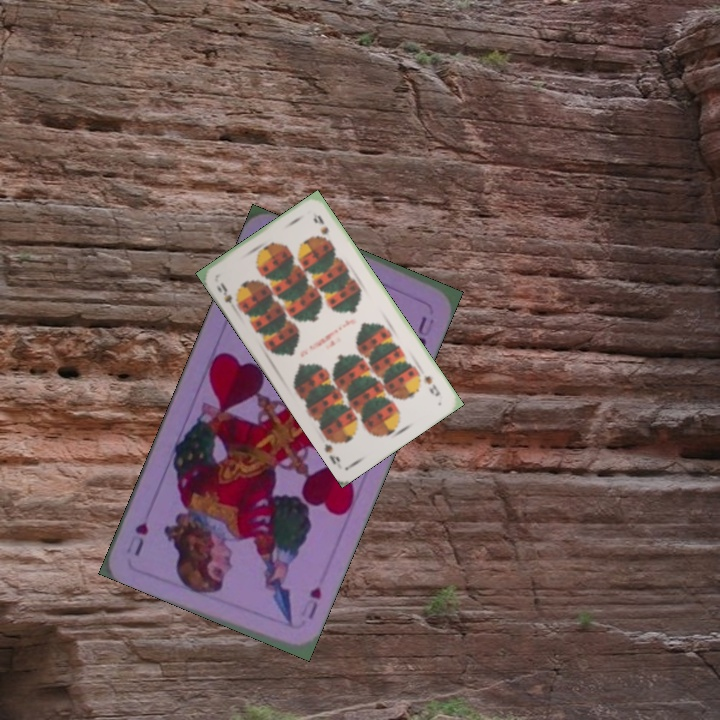HU: (303, 582, 325, 622)
S9: (213, 278, 242, 311), (420, 371, 443, 399)
